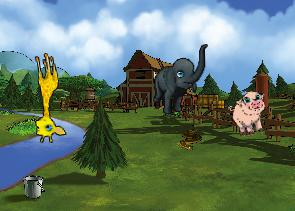elephant: (152, 44, 209, 114)
giraffe: (23, 51, 67, 144)
pig: (226, 89, 273, 138)
